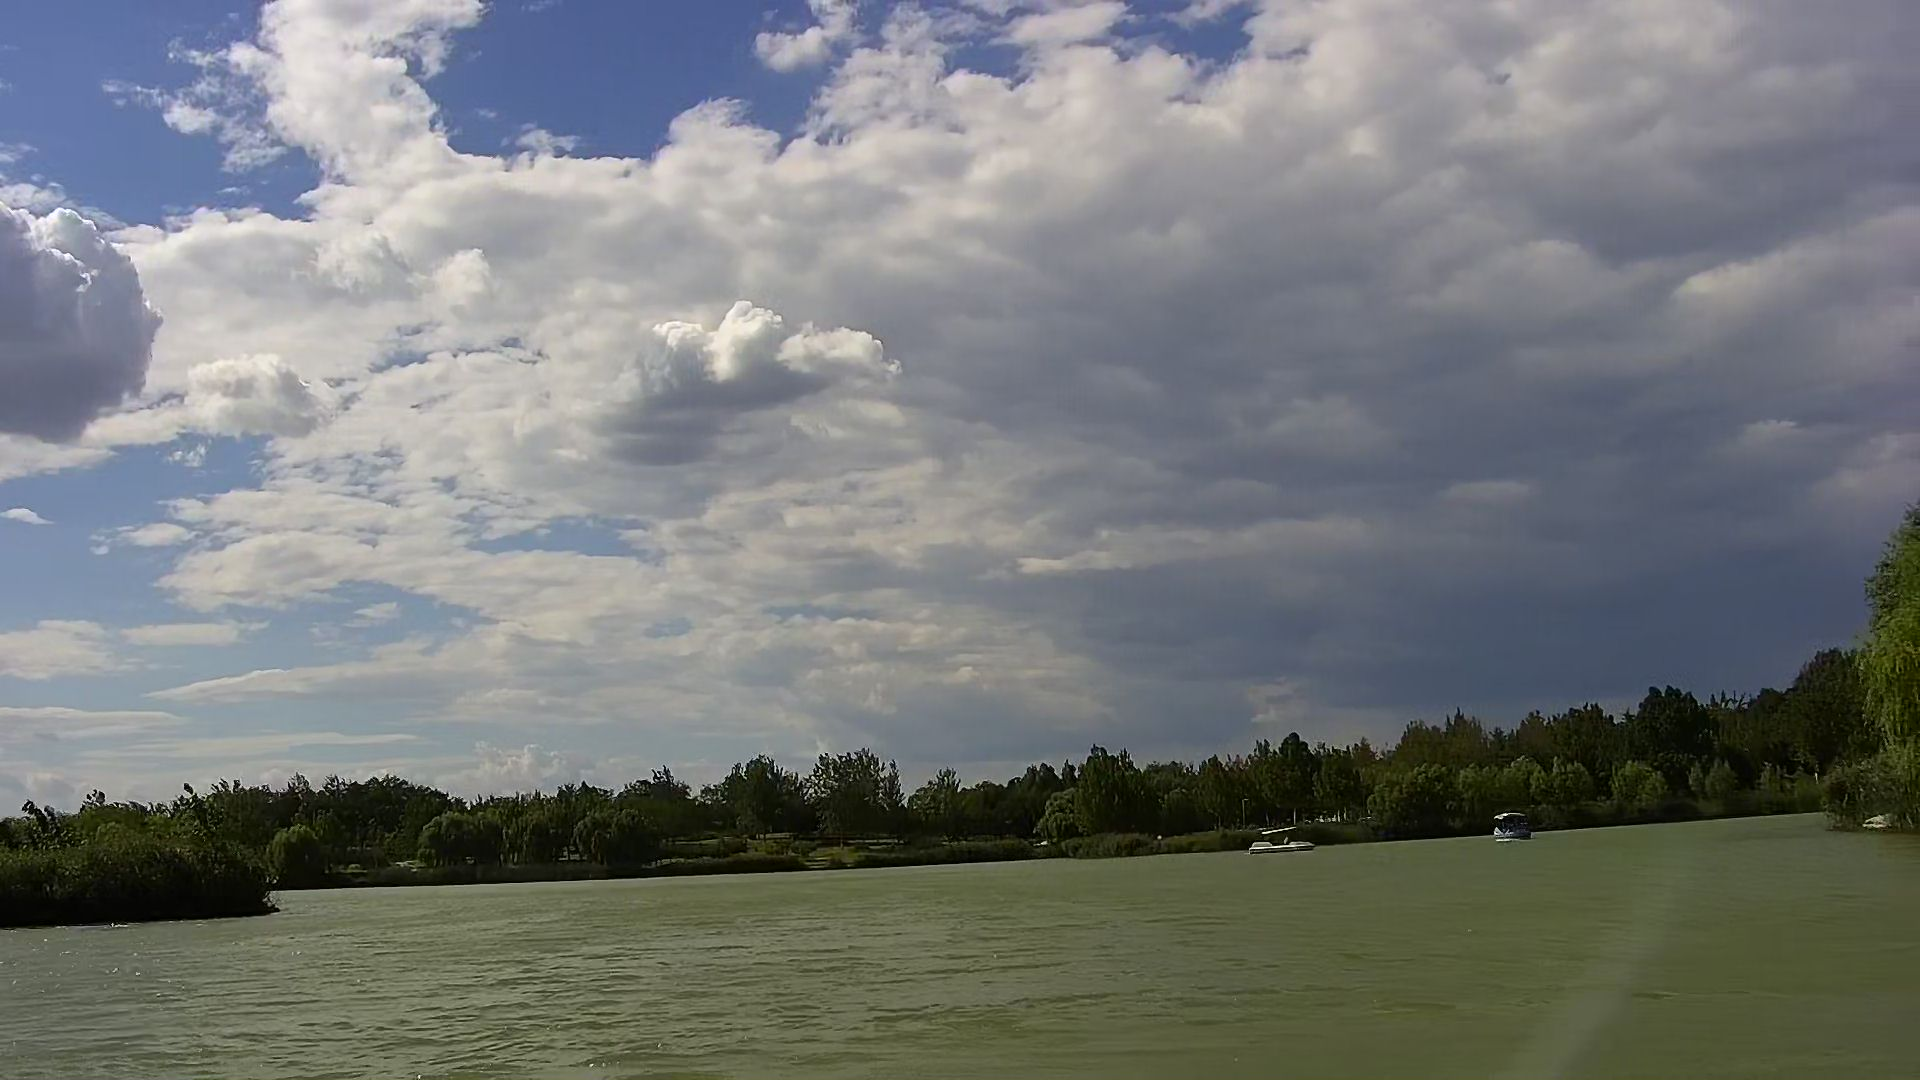boat: (1247, 823, 1316, 858), (1491, 812, 1534, 851)
rock: (1862, 808, 1904, 833)
